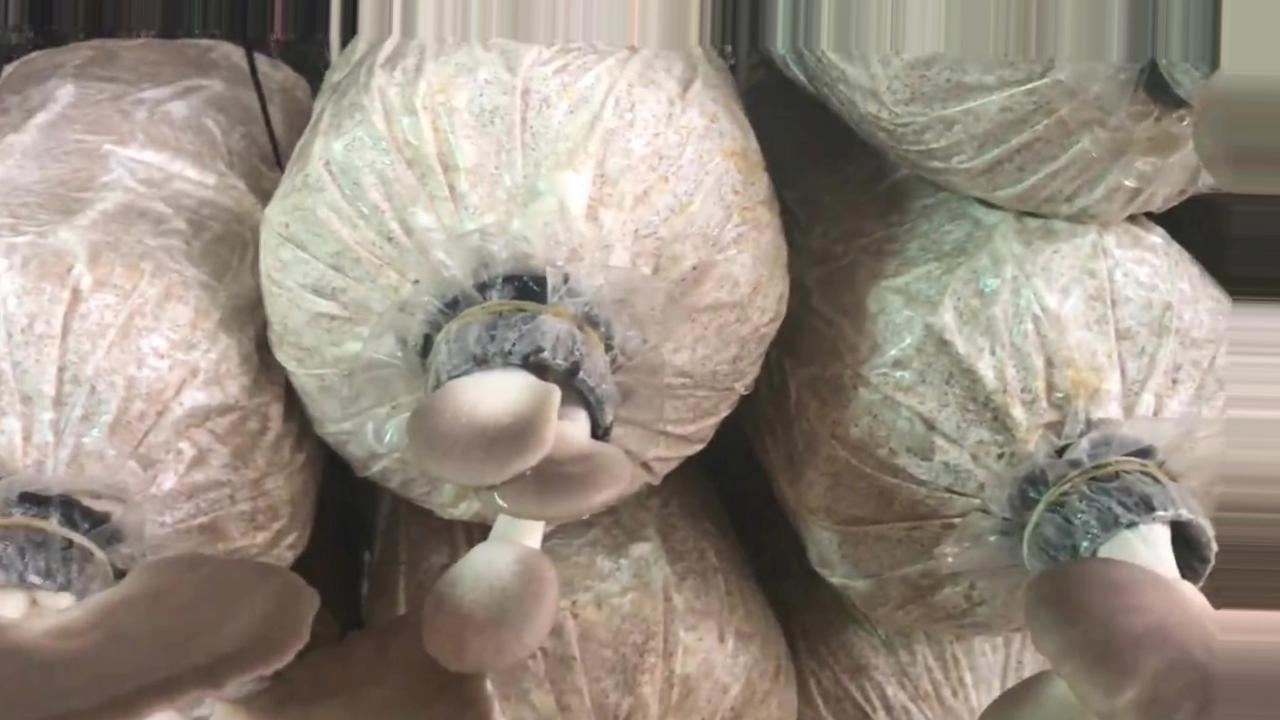nam: (1, 521, 490, 720), (406, 314, 631, 673), (985, 462, 1280, 716), (1139, 62, 1280, 191)
